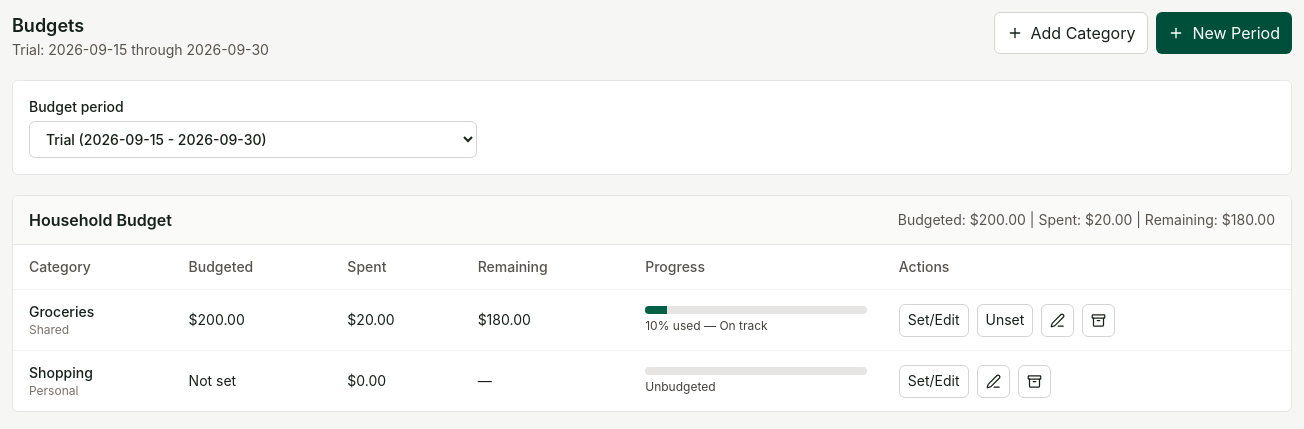
BudgetsPage › unsets a limit without hiding spent
Expected: the heading "Household Budget" is shown, [29,208,172,232]
Click the button "Unset" at (1005, 320), box [976,304,1033,336]
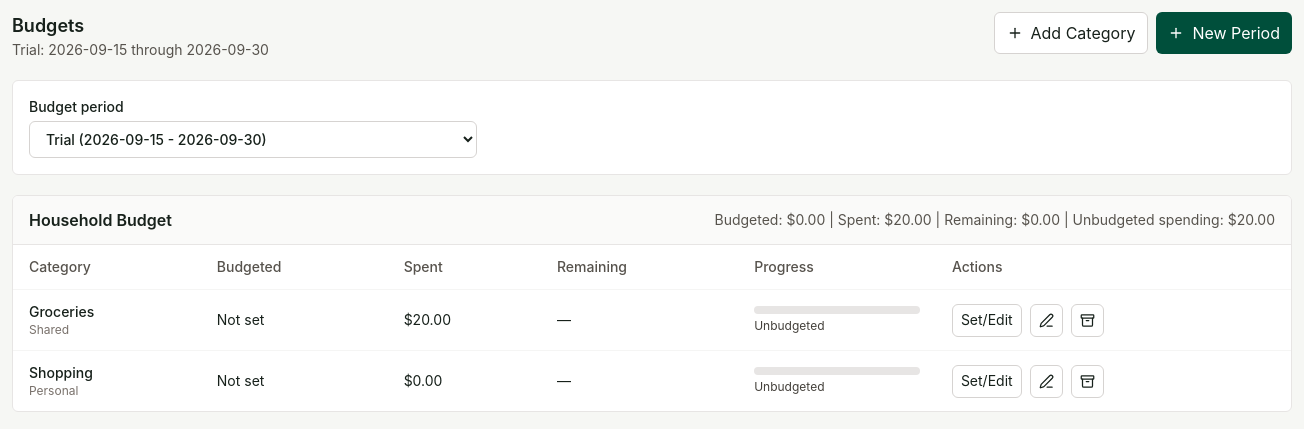
Expected: the text "$20.00" is shown, [388,290,541,350]
Result: the text "Not set" next to "Groceries" is shown at [217,311,264,328]
